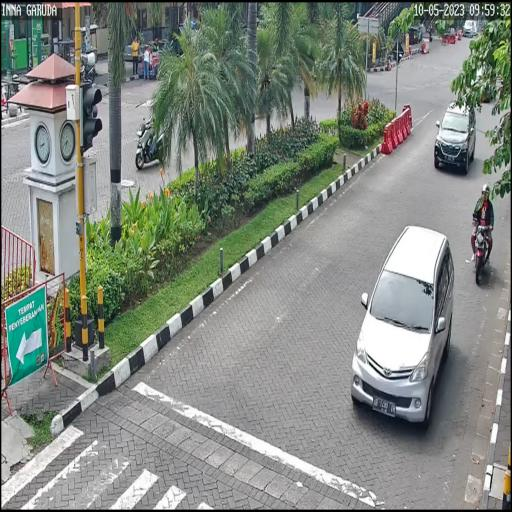mobil: (350, 218, 454, 438), (433, 101, 478, 177)
motor: (469, 206, 499, 293)
